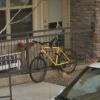Bicycle: (25, 35, 78, 84)
